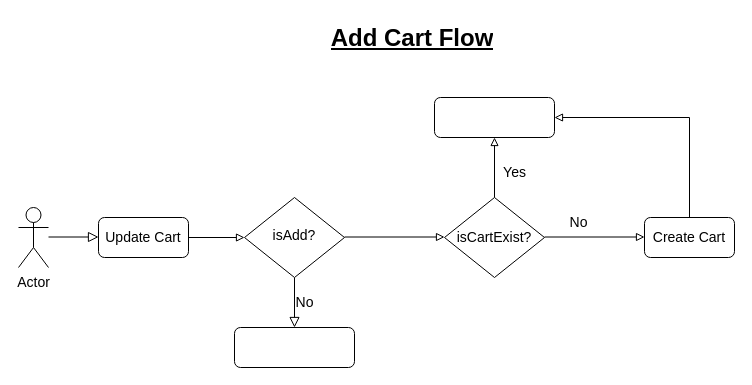
Image size: 752x385. Some labels were removed from this diagram. The box of each missing label's shape, as (x1, y1, x2, y2) in pixels:
Add Product: (434, 96, 554, 138)
Remove Product: (234, 326, 354, 368)
